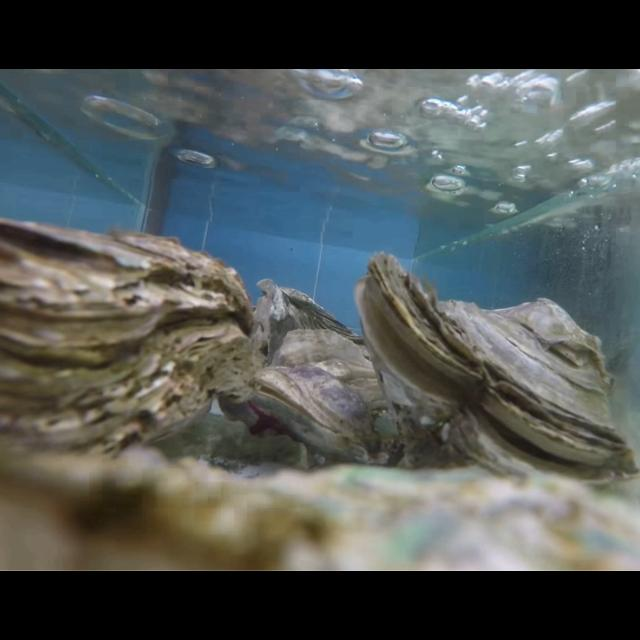Oyster-Closed: (0, 447, 640, 571), (0, 219, 254, 475), (252, 278, 368, 369)
Oyster-Open: (354, 253, 640, 495), (250, 329, 406, 468)
